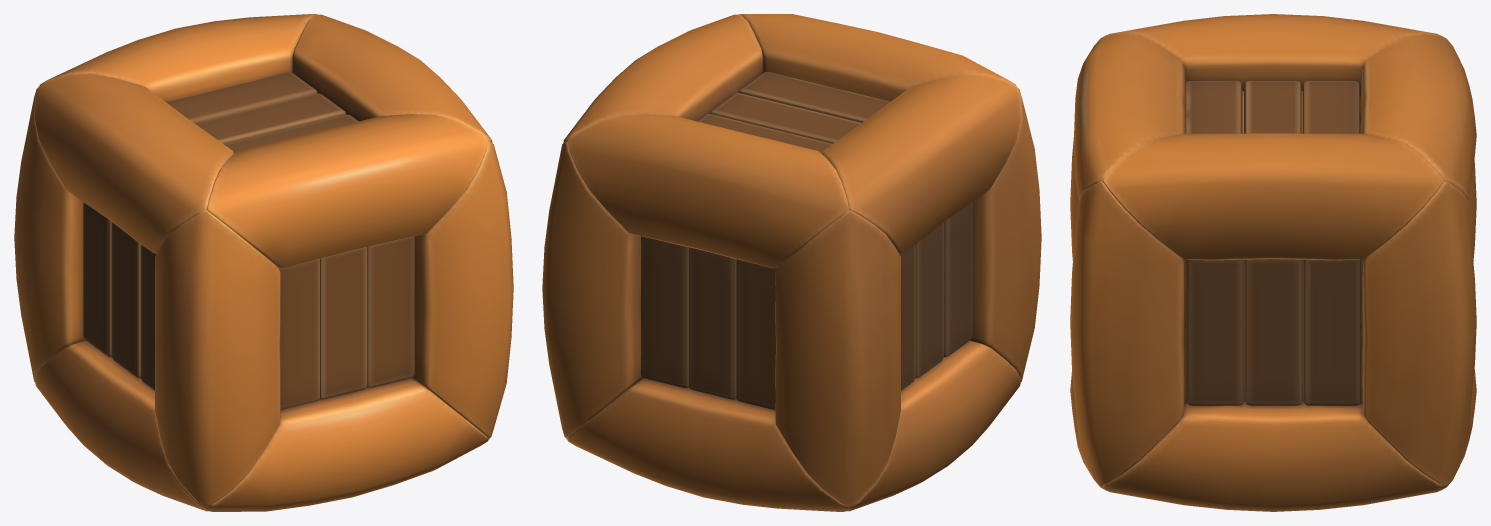
File: crate_st.fbx
The picture shows the model from 3 angles, left to right: view 1: azimuth 30°, elevation 25°; view 2: azimuth 150°, elevation 25°; view 3: azimuth 270°, elevation 25°; orthographic projection. The views are drawn at different scales.
Visible parts, largest first — view 1: crate_geo; view 2: crate_geo; view 3: crate_geo.
Boxes of the visible parts, bbox=[...] form: crate_geo: bbox=[14, 14, 513, 511]; crate_geo: bbox=[542, 14, 1041, 511]; crate_geo: bbox=[1070, 14, 1476, 511].
Size of the model in its own units: 116 by 117 by 119.
1 material, 1 textured.
